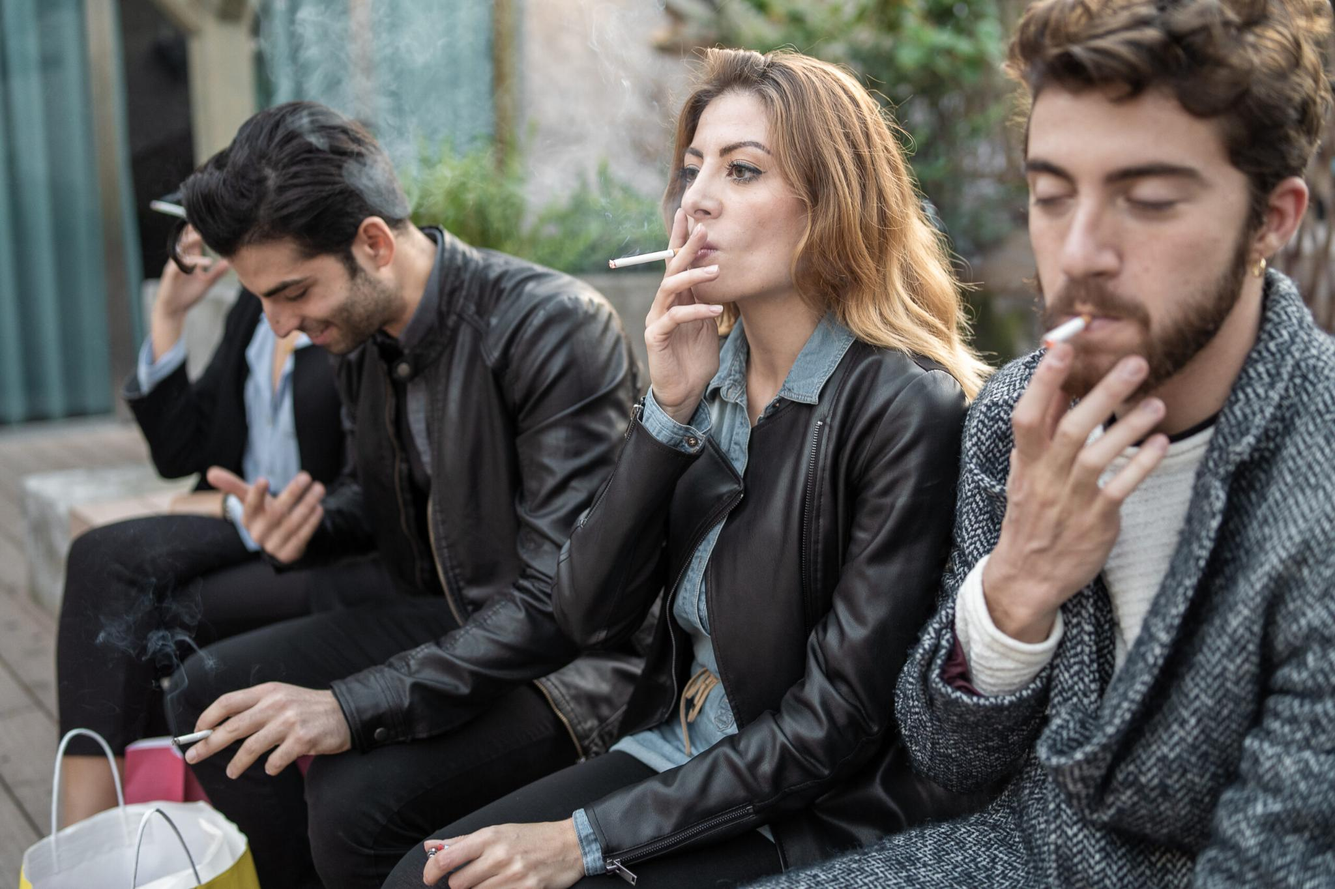cigarette: (609, 248, 677, 269)
